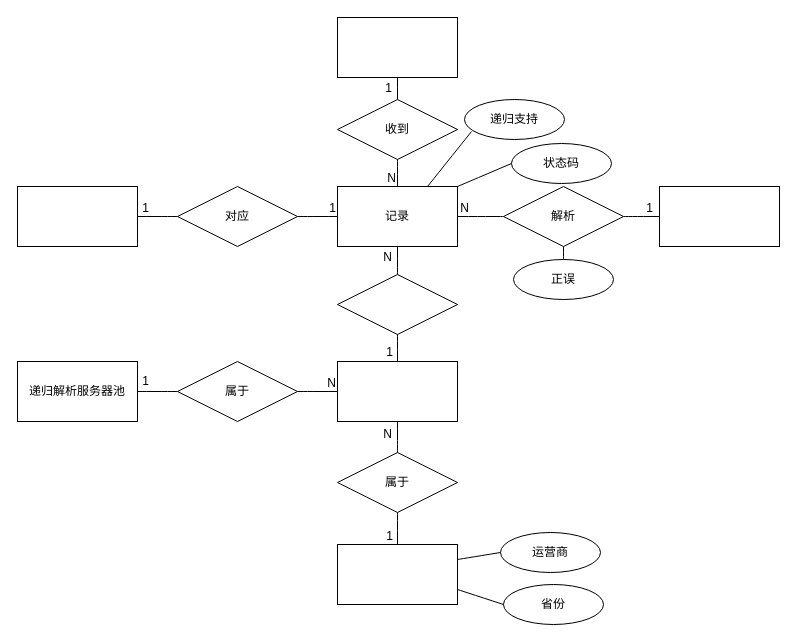
Image size: 797x642. Some labels were removed from this diagram. Here are the shapes that lost their labels. From the top down, the centre of each, then its label:
At point (397, 47): "探测节点".
At point (77, 216): "请求".
At point (719, 216): "域名".
At point (397, 304): "来自".
At point (397, 391): "递归解析服务器".
At point (397, 574): "归属".
